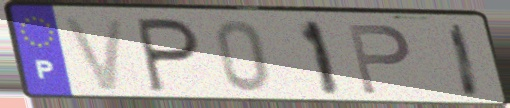0: (212, 18, 275, 96)
1: (295, 18, 346, 99)
I: (445, 21, 485, 101)
P: (133, 15, 204, 96), (344, 22, 414, 97)
V: (59, 16, 128, 94)
